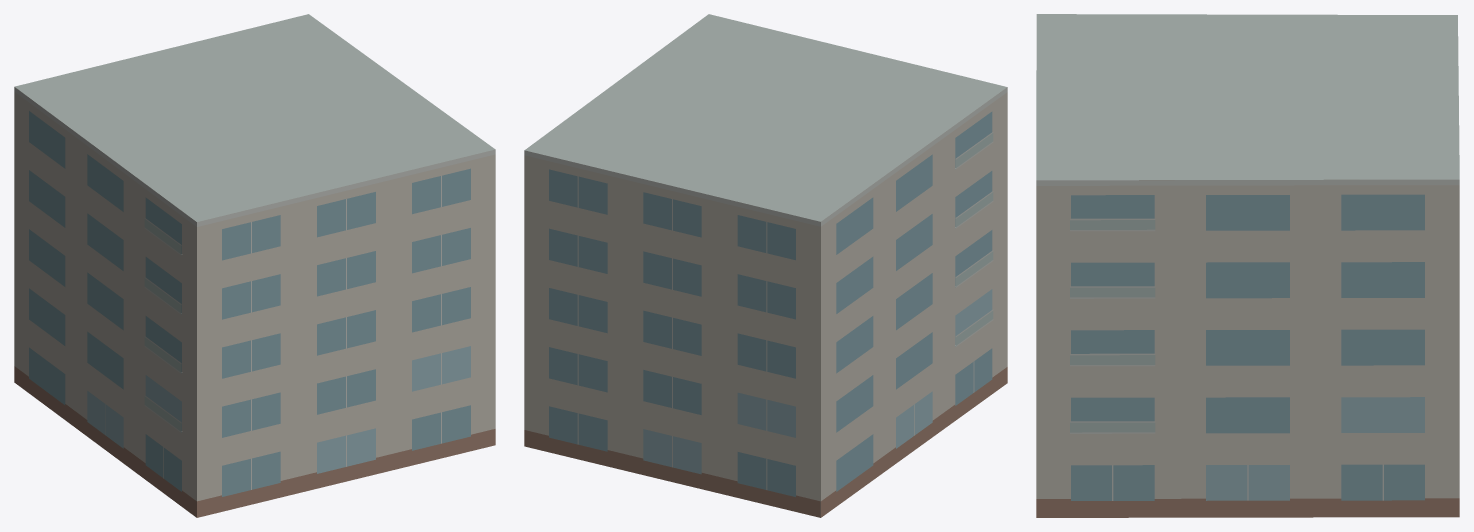
Rendered from survey-upis-32538562.glb.
The picture shows the model from 3 angles, left to right: view 1: azimuth 30°, elevation 25°; view 2: azimuth 150°, elevation 25°; view 3: azimuth 270°, elevation 25°; orthographic projection. The views are drawn at different scales.
Visible parts, largest first — view 1: survey-upis-32538562.tmp; view 2: survey-upis-32538562.tmp; view 3: survey-upis-32538562.tmp.
Part boxes in pixels (x1,y1,x2,y2): survey-upis-32538562.tmp: (14, 14, 495, 517); survey-upis-32538562.tmp: (524, 14, 1007, 517); survey-upis-32538562.tmp: (1036, 14, 1459, 517).
Bounding box in the file's own units: 15.49 × 14.6 × 16.61.
